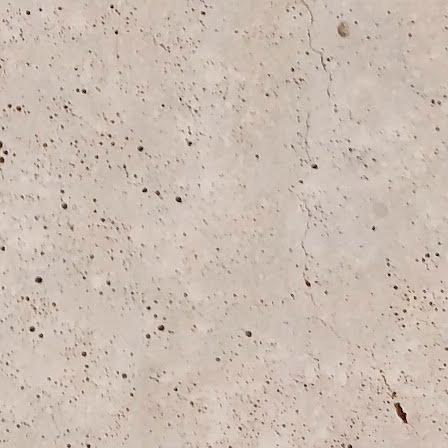crack: (270, 298, 443, 435), (299, 0, 336, 165), (287, 184, 327, 314)
